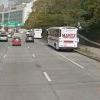Bus: (43, 24, 83, 54)
